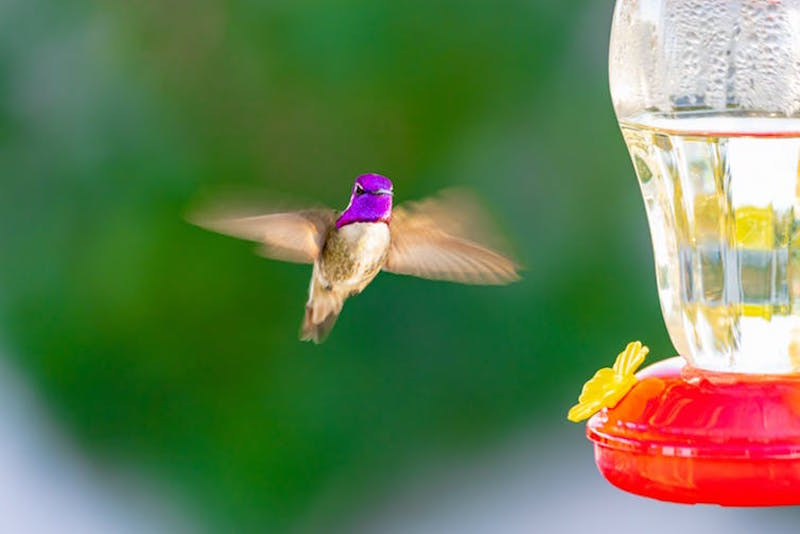bird: (160, 137, 544, 351)
